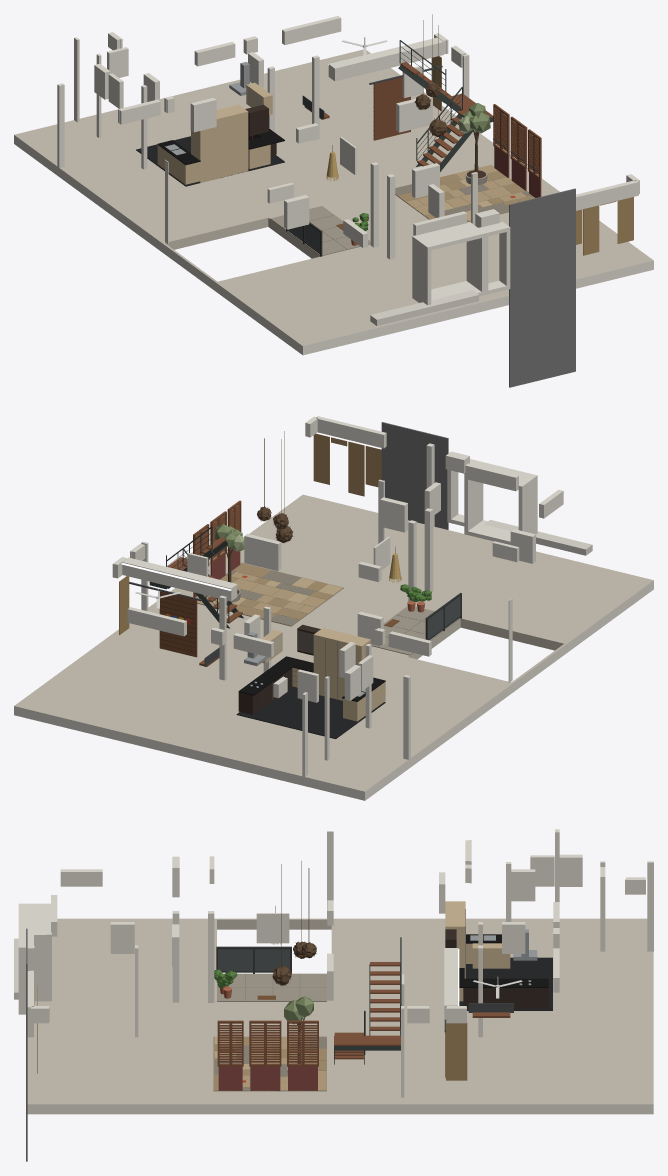
File: first.glb
The picture shows the model from 3 angles, top to bottom: view 1: azimuth 30°, elevation 25°; view 2: azimuth 150°, elevation 25°; view 3: azimuth 270°, elevation 25°; orthographic projection. The views are drawn at different scales.
Parts seen in each view (by area): view 1: Terrazzo.002, Lime White_high.002, Charcoal Plaster_wall, Lime White_wall.002, Lime White.002, Light Wood, Teak.002, Woven Blind, Stair Steel, Sandstone 0, Washed Concrete, Lime White Shade.001 (+8 smaller); view 2: Terrazzo.002, Lime White_high.002, Lime White_wall.002, Lime White.002, Charcoal Plaster_wall, Teak.002, Light Wood, Woven Blind, Black Floor Tile.001, Sandstone 0, Sandstone 1, Wenge (+9 smaller); view 3: Terrazzo.002, Lime White_high.002, Lime White_wall.002, Lime White.002, Teak.002, Washed Concrete, Red Oxide.001, Light Wood, Wenge, Black Floor Tile.001, Steel Mesh, Woven Blind (+10 smaller).
Boxes of the visible parts, x1=… form: Terrazzo.002: x1=14, y1=49, x2=653, y2=345; Lime White_high.002: x1=94, y1=16, x2=639, y2=247; Charcoal Plaster_wall: x1=509, y1=188, x2=575, y2=387; Lime White_wall.002: x1=57, y1=37, x2=510, y2=305; Lime White.002: x1=14, y1=135, x2=653, y2=355; Light Wood: x1=157, y1=82, x2=272, y2=184; Teak.002: x1=304, y1=62, x2=541, y2=179; Woven Blind: x1=431, y1=56, x2=633, y2=255; Stair Steel: x1=398, y1=40, x2=493, y2=171; Sandstone 0: x1=406, y1=165, x2=526, y2=215; Washed Concrete: x1=270, y1=206, x2=370, y2=255; Lime White Shade.001: x1=370, y1=290, x2=478, y2=325; Terrazzo.002: x1=14, y1=494, x2=653, y2=791; Lime White_high.002: x1=112, y1=416, x2=563, y2=702; Lime White_wall.002: x1=141, y1=443, x2=537, y2=776; Lime White.002: x1=14, y1=580, x2=653, y2=800; Charcoal Plaster_wall: x1=381, y1=422, x2=448, y2=529; Teak.002: x1=159, y1=500, x2=242, y2=666; Light Wood: x1=262, y1=628, x2=385, y2=721; Woven Blind: x1=119, y1=433, x2=381, y2=634; Black Floor Tile.001: x1=236, y1=686, x2=385, y2=738; Sandstone 0: x1=195, y1=572, x2=325, y2=613; Sandstone 1: x1=204, y1=563, x2=332, y2=619; Wenge: x1=238, y1=624, x2=320, y2=714; Terrazzo.002: x1=27, y1=918, x2=653, y2=1104; Lime White_high.002: x1=27, y1=840, x2=645, y2=1023; Lime White_wall.002: x1=18, y1=829, x2=653, y2=1097; Lime White.002: x1=27, y1=1104, x2=653, y2=1114; Teak.002: x1=217, y1=962, x2=510, y2=1077; Washed Concrete: x1=217, y1=973, x2=326, y2=1001; Red Oxide.001: x1=218, y1=1066, x2=317, y2=1091; Light Wood: x1=445, y1=901, x2=510, y2=1001; Wenge: x1=445, y1=929, x2=548, y2=1008; Black Floor Tile.001: x1=459, y1=957, x2=552, y2=1010; Steel Mesh: x1=218, y1=949, x2=289, y2=970; Woven Blind: x1=37, y1=985, x2=467, y2=1080.
Size of the model in its own units: 5.84 by 4.2 by 8.5.
